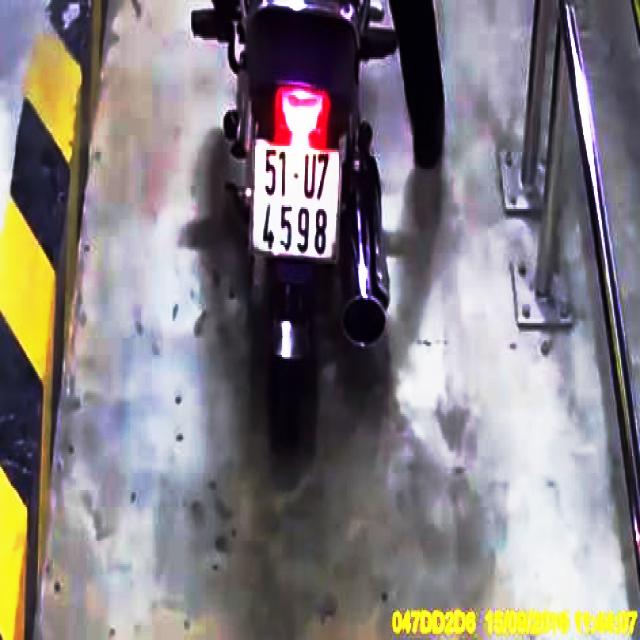license_plate: (252, 140, 343, 259)
